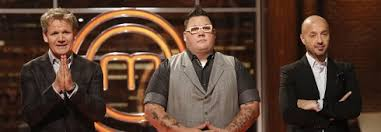Bad: (21, 7, 259, 131), (143, 8, 363, 132)
